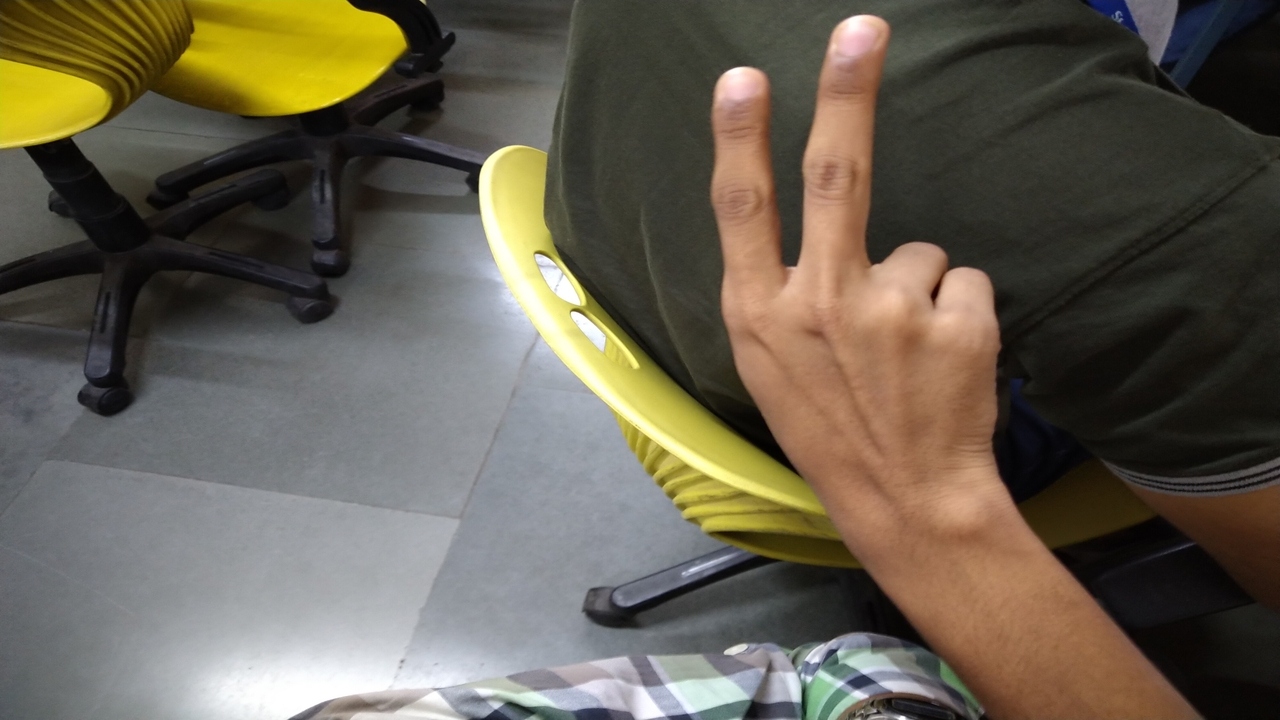fingertip: (830, 8, 894, 70), (710, 60, 772, 120)
